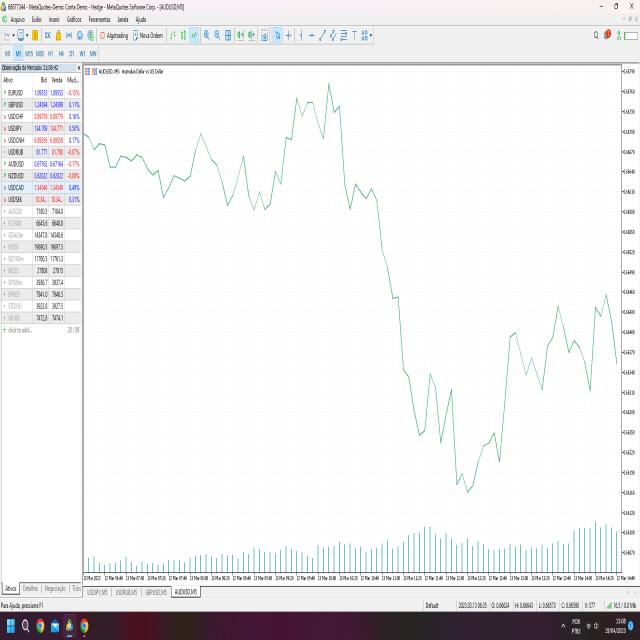bandeira_baixa: (330, 86, 380, 216)
fundo_duplo: (243, 153, 279, 220)
